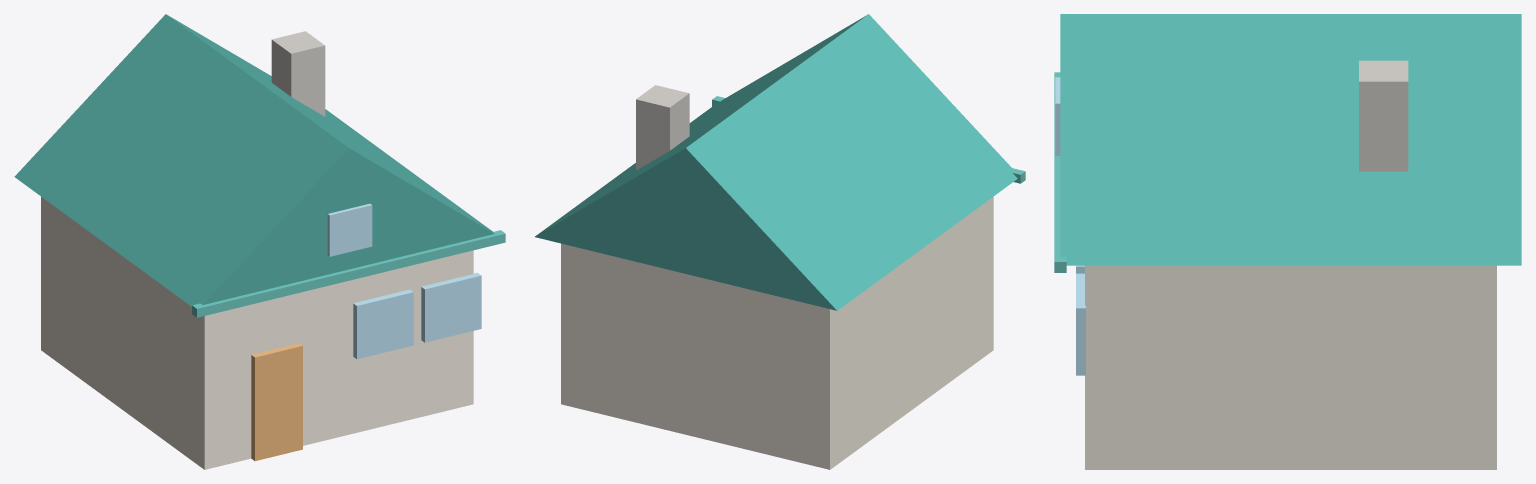
File: house.fbx
The picture shows the model from 3 angles, left to right: view 1: azimuth 30°, elevation 25°; view 2: azimuth 150°, elevation 25°; view 3: azimuth 270°, elevation 25°; orthographic projection. The views are drawn at different scales.
Visible parts, largest first — view 1: roof, walls, door, roof_trim_front, chimney, window_r, window_l, gable_window; view 2: roof, walls, chimney; view 3: roof, walls, chimney, roof_trim_front, window_r.
Boxes of the visible parts, left/top/right/bottom form: roof: left=14, top=14, right=494, bottom=306; walls: left=41, top=196, right=473, bottom=469; door: left=251, top=343, right=302, bottom=461; roof_trim_front: left=192, top=230, right=505, bottom=317; chimney: left=271, top=31, right=325, bottom=116; window_r: left=421, top=272, right=481, bottom=342; window_l: left=353, top=289, right=413, bottom=359; gable_window: left=327, top=203, right=372, bottom=256; roof: left=535, top=14, right=1017, bottom=310; walls: left=561, top=197, right=993, bottom=469; chimney: left=636, top=85, right=689, bottom=170; roof: left=1060, top=14, right=1521, bottom=265; walls: left=1085, top=265, right=1496, bottom=469; chimney: left=1359, top=60, right=1408, bottom=171; roof_trim_front: left=1054, top=72, right=1066, bottom=272; window_r: left=1076, top=273, right=1085, bottom=375.
Bounding box in the file's own units: 2.18 × 2 × 2.27.
